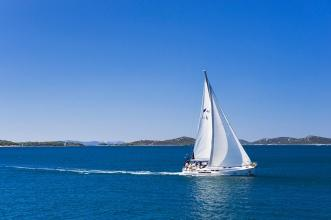fanchuan: (179, 70, 256, 175)
